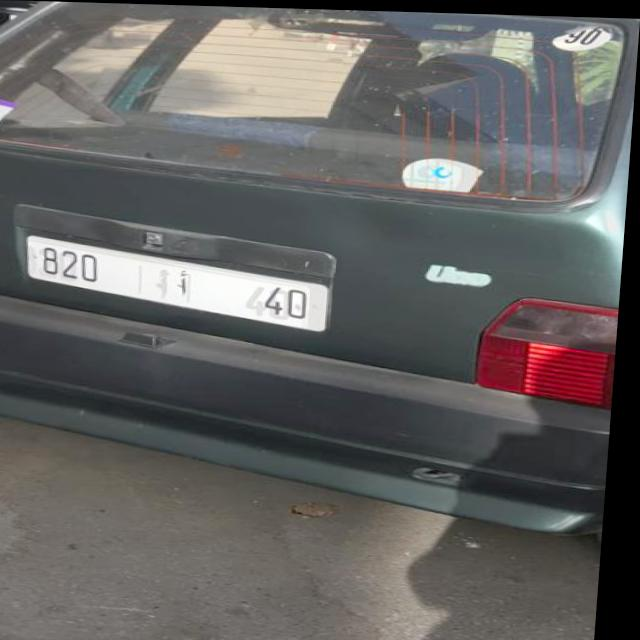License-Plate: (31, 235, 330, 329)
